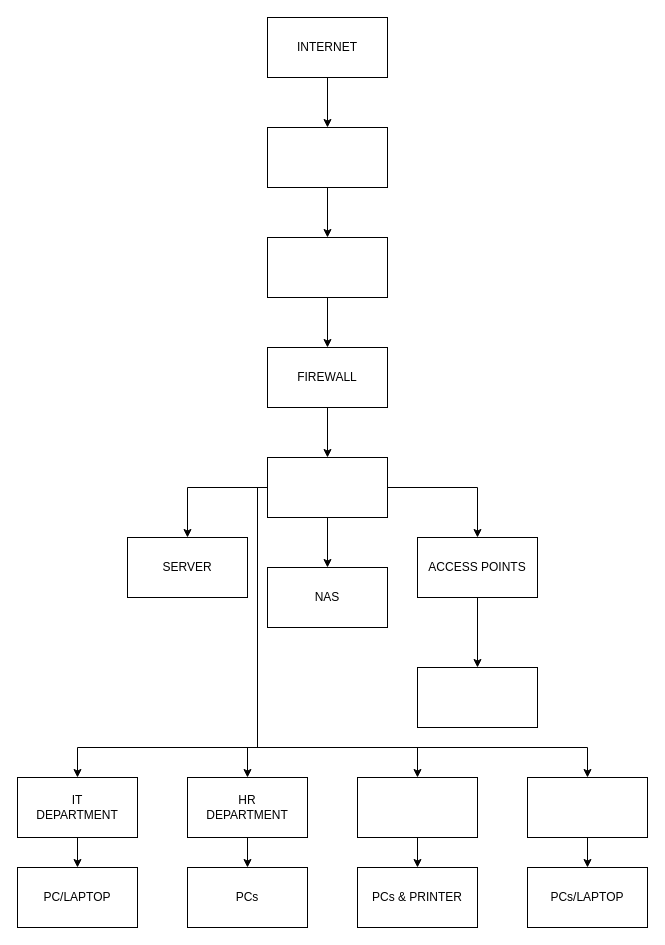
Some shapes in this 665 by 945 pixel diagram are drawn without their labels. Each missing label, with the centre of its shape:
"FINANCE" belongs at point (417, 807).
"ISP MODEM" belongs at point (327, 157).
"MANAGED SWITCH" belongs at point (327, 487).
"ROUTER" belongs at point (327, 267).
"SALES DEPT" belongs at point (587, 807).
"WIFI" belongs at point (477, 697).
